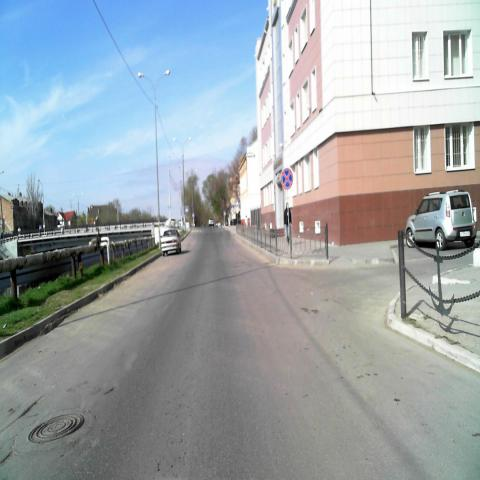2_1: (230, 197, 234, 205)
3_27: (280, 168, 294, 189)
5_19_1: (184, 206, 188, 214)
